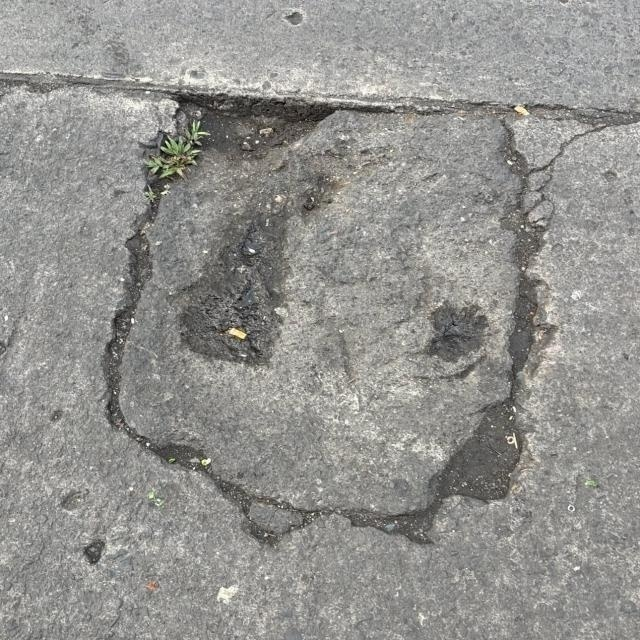pothole: (110, 51, 568, 602)
